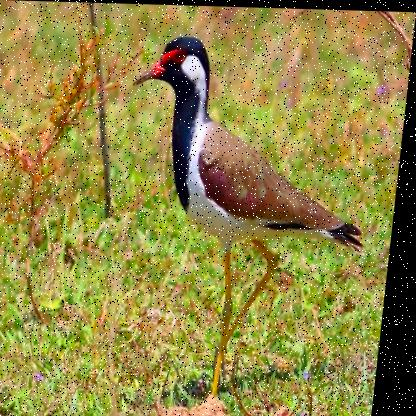Burung: (108, 34, 388, 396)
